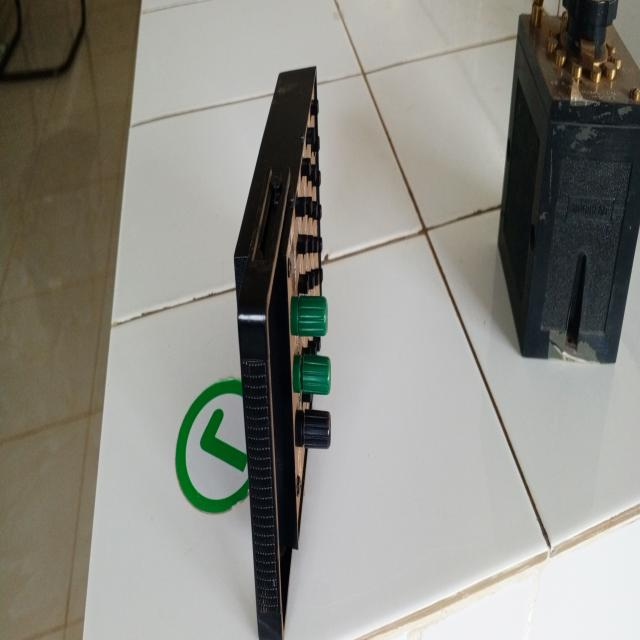Set of Resistances: (224, 22, 350, 634)
